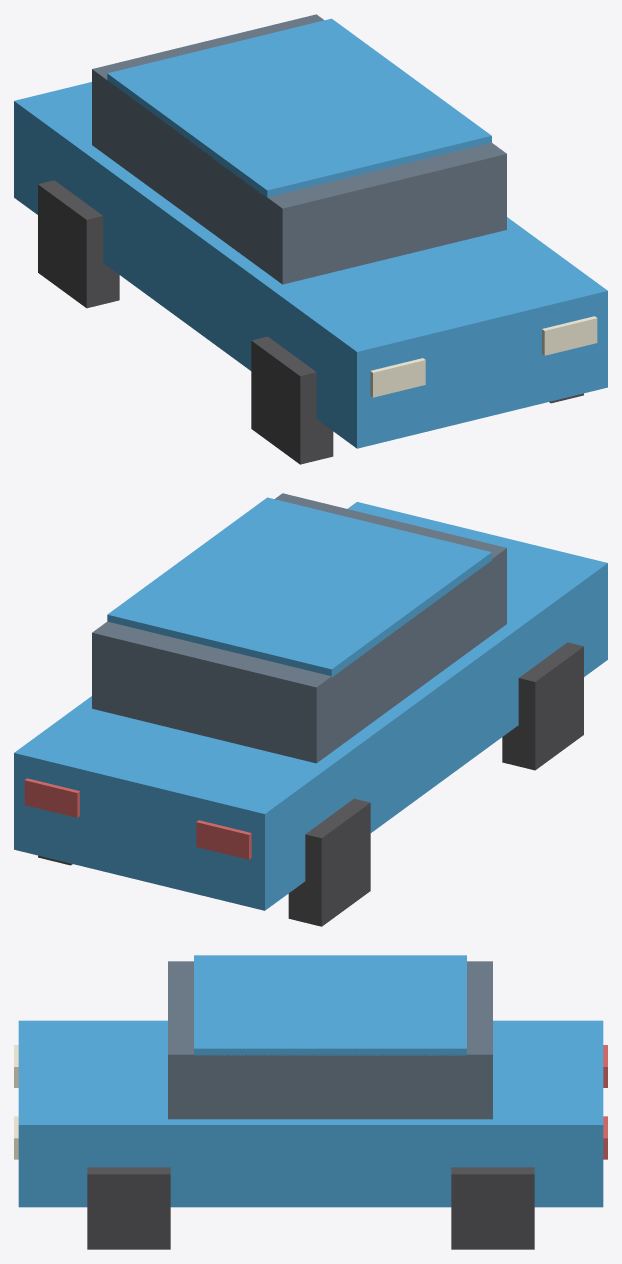
Rendered from car-blue.glb.
The picture shows the model from 3 angles, top to bottom: view 1: azimuth 30°, elevation 25°; view 2: azimuth 150°, elevation 25°; view 3: azimuth 270°, elevation 25°; orthographic projection. The views are drawn at different scales.
Bounding box in the file's own units: 2.15 × 1.6 × 4.57.
